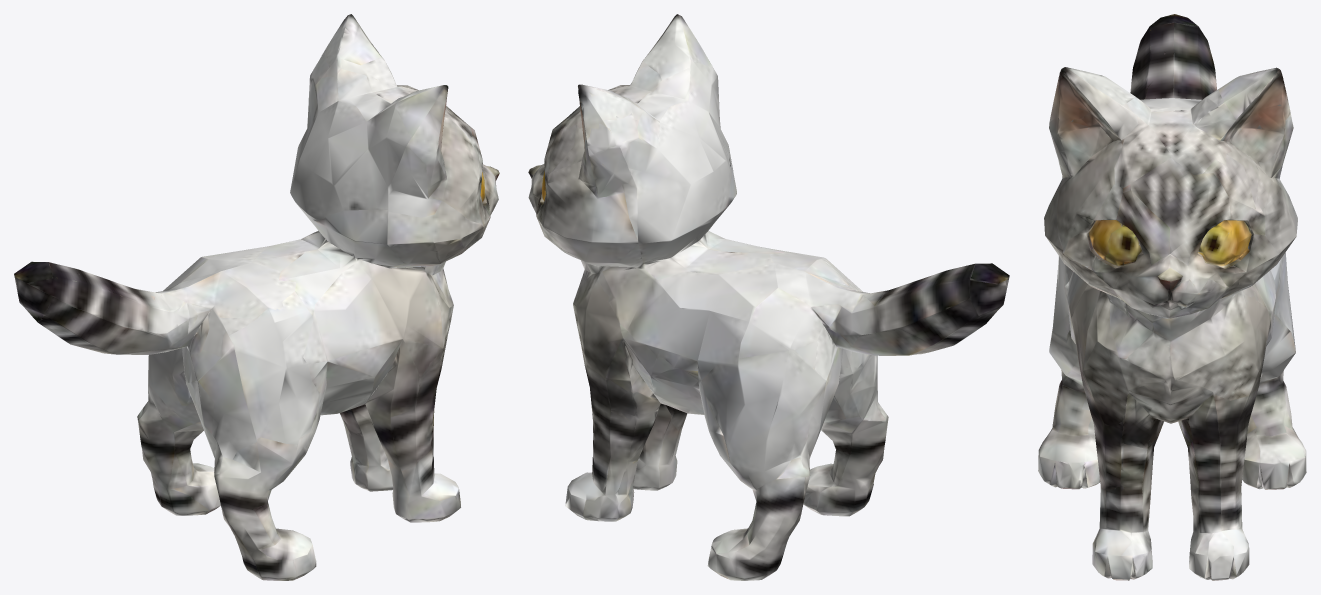
File: WAYBILL-lo.glb
The picture shows the model from 3 angles, left to right: view 1: azimuth 30°, elevation 25°; view 2: azimuth 150°, elevation 25°; view 3: azimuth 270°, elevation 25°; orthographic projection. The views are drawn at different scales.
Parts seen in each view (by area): view 1: fit; view 2: fit; view 3: fit.
Boxes of the visible parts, box(x1,y1,x2,y2) form: fit: box(14, 14, 499, 580); fit: box(528, 14, 1009, 580); fit: box(1038, 14, 1306, 580).
Bounding box in the file's own units: 1.12 × 0.9995 × 0.4894.
Materials: 1 (1 with a texture image).
